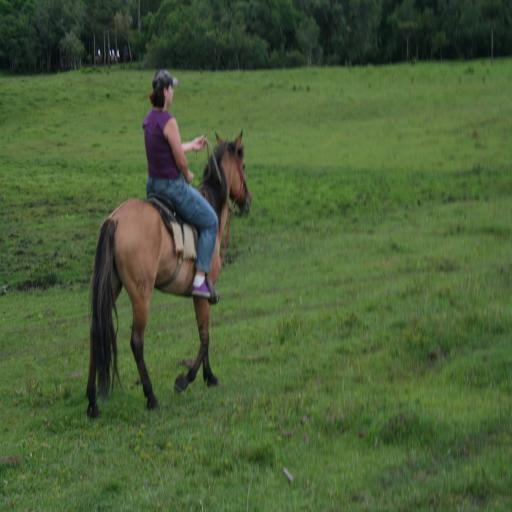horse: (86, 130, 254, 420)
